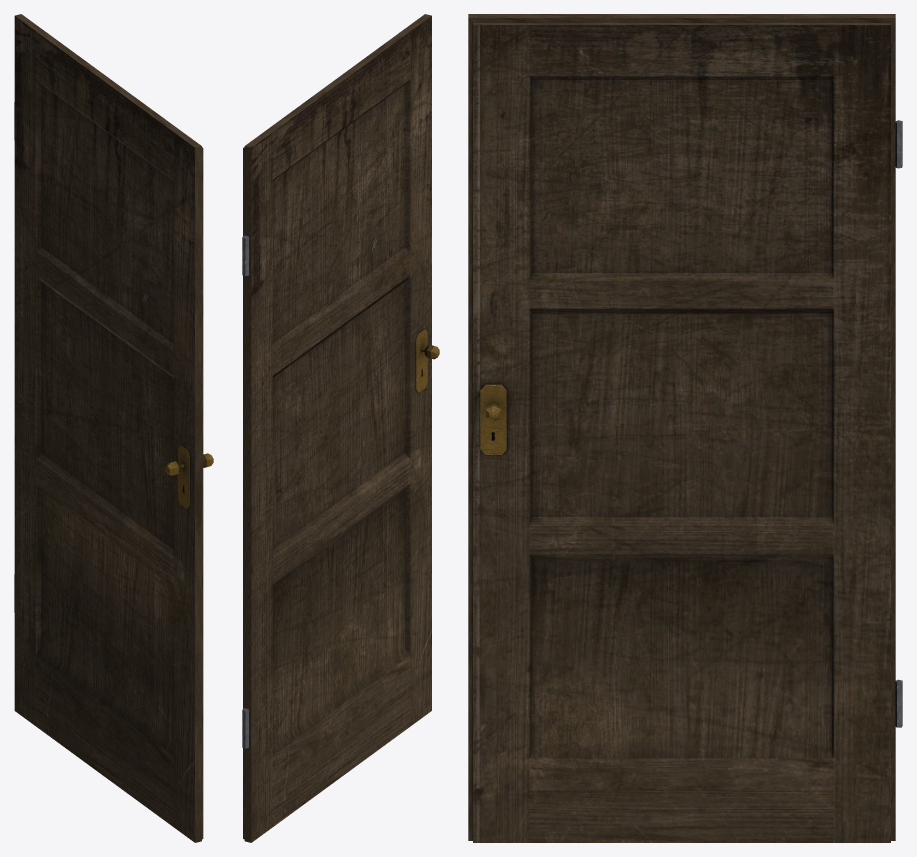
The model's file is Door_Wood.fbx.
The picture shows the model from 3 angles, left to right: view 1: azimuth 30°, elevation 25°; view 2: azimuth 150°, elevation 25°; view 3: azimuth 270°, elevation 25°; orthographic projection. The views are drawn at different scales.
Parts seen in each view (by area): view 1: Cube_059; view 2: Cube_059; view 3: Cube_059.
Part boxes in pixels (bbox=[...]): Cube_059: bbox=[14, 14, 213, 842]; Cube_059: bbox=[242, 14, 439, 842]; Cube_059: bbox=[468, 14, 902, 842].
Bounding box in the file's own units: 0.6754 × 9.71 × 4.65.
